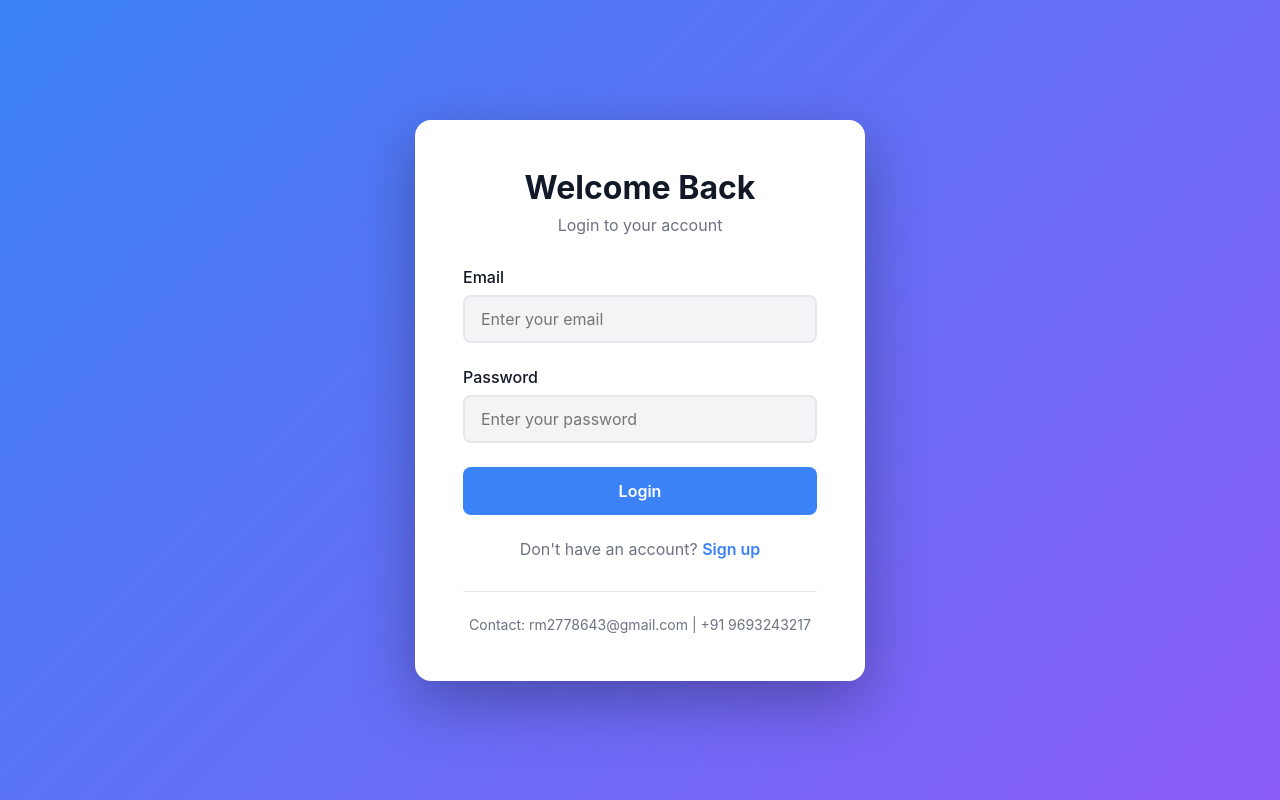
Scenario: Login Component › shows validation errors for empty fields
Click the button "Login": (640, 490) left=463, top=466, right=817, bottom=514
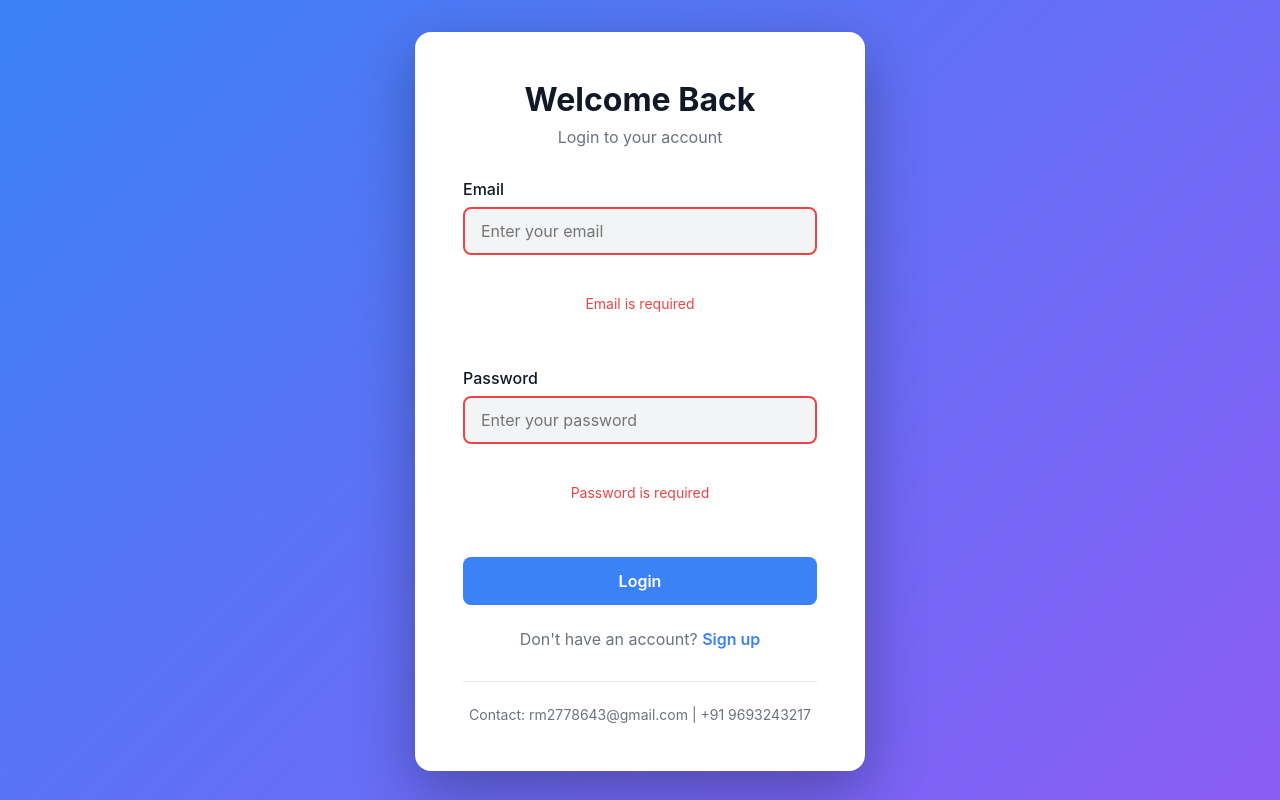
Result: the text "Email is required" is shown at left=479, top=279, right=801, bottom=328
Result: the text "Password is required" is shown at left=479, top=468, right=801, bottom=517
